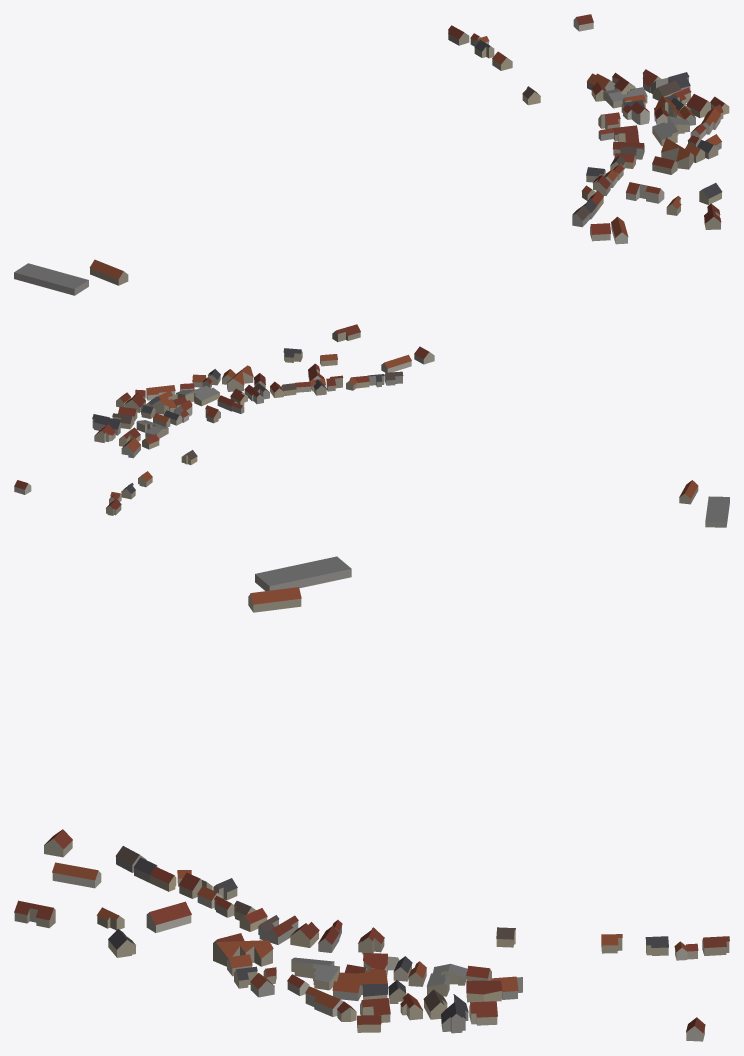
3 renders of one model, top to bottom at view 1: azimuth 30°, elevation 25°; view 2: azimuth 150°, elevation 25°; view 3: azimuth 270°, elevation 25°, orthographic. The views are drawn at different scales.
Visible parts, largest first — view 1: buildings; view 2: buildings; view 3: buildings.
Boxes of the visible parts, <box> form: buildings: <box>14,14,729,295</box>; buildings: <box>14,324,729,527</box>; buildings: <box>14,556,729,1041</box>.
Size of the model in its own units: 682 by 41.26 by 462.
